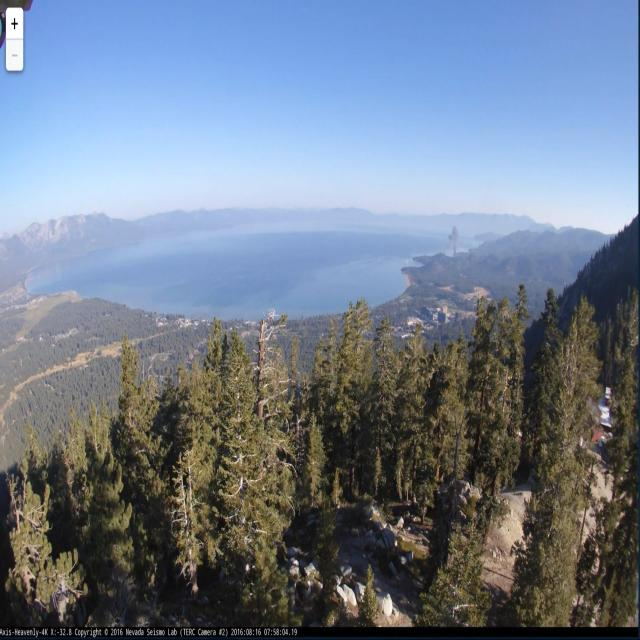smoke: (449, 221, 459, 258)
